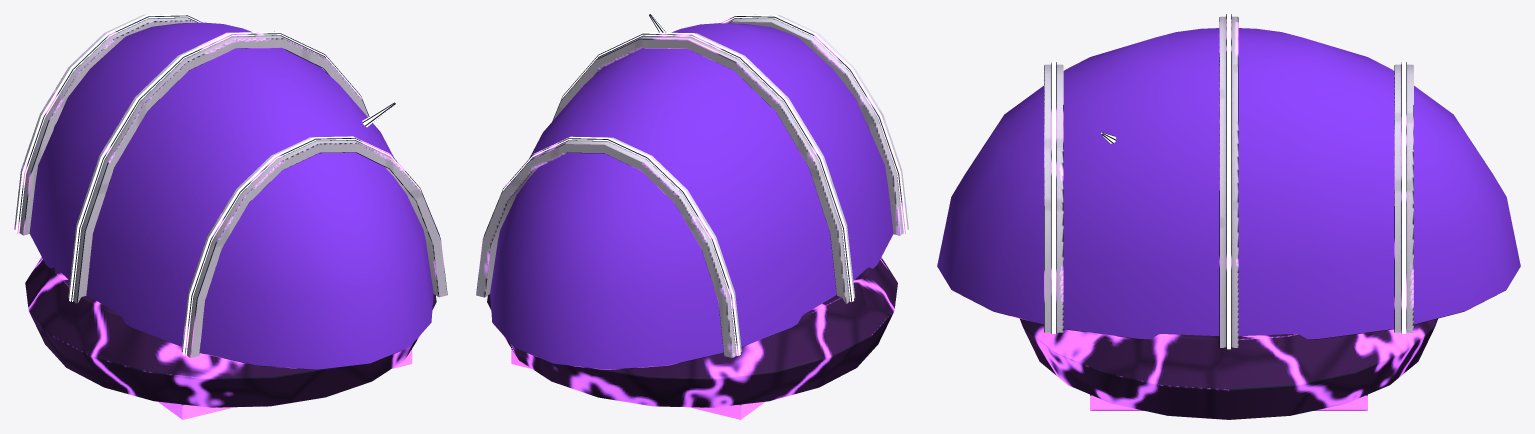
Rendered from cabina_alien_t5.fbx.
3 renders of one model, left to right at view 1: azimuth 30°, elevation 25°; view 2: azimuth 150°, elevation 25°; view 3: azimuth 270°, elevation 25°, orthographic. The views are drawn at different scales.
Parts seen in each view (by area): view 1: cabina_alien_t5_cristal, cabina_alien_t5, cabina_alien_t5_neon; view 2: cabina_alien_t5_cristal, cabina_alien_t5, cabina_alien_t5_neon; view 3: cabina_alien_t5_cristal, cabina_alien_t5, cabina_alien_t5_neon.
Boxes of the visible parts, x1,y1,x2,y2 form: cabina_alien_t5_cristal: [29, 22, 433, 369]; cabina_alien_t5: [14, 14, 447, 419]; cabina_alien_t5_neon: [15, 14, 421, 355]; cabina_alien_t5_cristal: [490, 23, 893, 369]; cabina_alien_t5: [476, 14, 908, 419]; cabina_alien_t5_neon: [502, 14, 907, 355]; cabina_alien_t5_cristal: [937, 28, 1520, 339]; cabina_alien_t5: [952, 14, 1505, 419]; cabina_alien_t5_neon: [1051, 14, 1406, 349].
Bounding box in the file's own units: 3.12 × 2.64 × 4.2.
